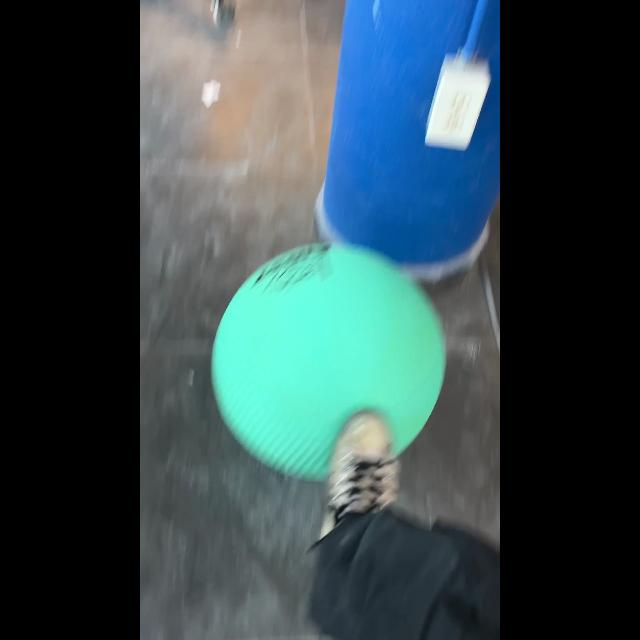ALGAE: (209, 241, 446, 483)
